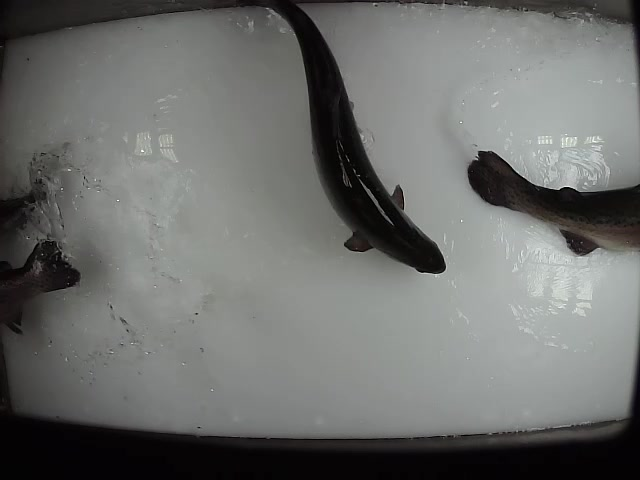fish: (239, 1, 447, 275)
